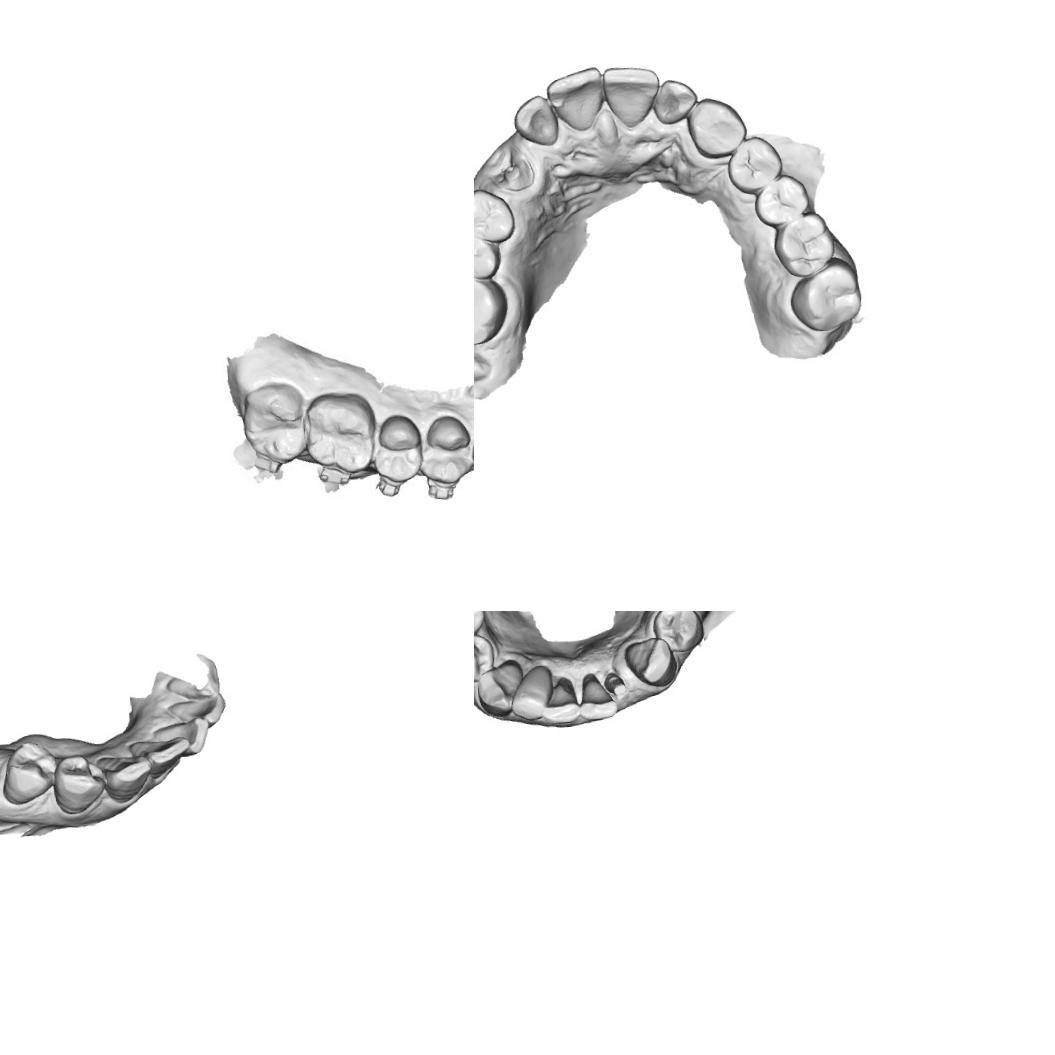abutment: (601, 670, 629, 698)
canine: (684, 94, 749, 160), (622, 632, 678, 688), (98, 749, 155, 804), (474, 657, 525, 718)
incisor: (543, 63, 609, 132), (601, 62, 661, 128), (510, 92, 560, 148), (130, 733, 192, 778), (508, 664, 555, 721), (156, 715, 212, 759), (173, 690, 235, 729), (652, 76, 699, 126), (541, 682, 580, 724), (576, 688, 618, 722)
molar: (785, 254, 864, 335), (242, 380, 312, 470), (310, 392, 374, 474), (771, 209, 838, 279), (474, 264, 511, 349)
premolar: (724, 133, 785, 196), (0, 739, 57, 806), (50, 752, 106, 816), (751, 172, 812, 228), (422, 417, 468, 481), (376, 418, 423, 480), (474, 186, 517, 246), (649, 611, 705, 653), (474, 226, 503, 284), (474, 631, 496, 685)
